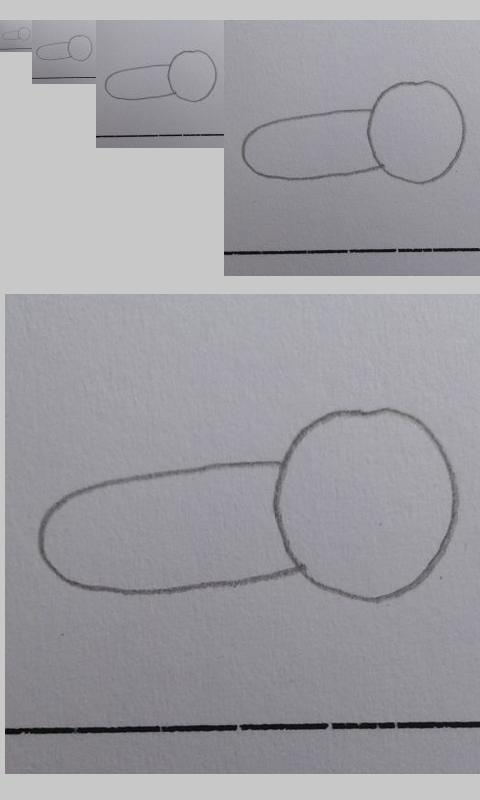switch: (39, 407, 461, 607), (241, 80, 466, 185), (104, 50, 217, 103), (35, 34, 93, 62), (2, 27, 31, 41)
